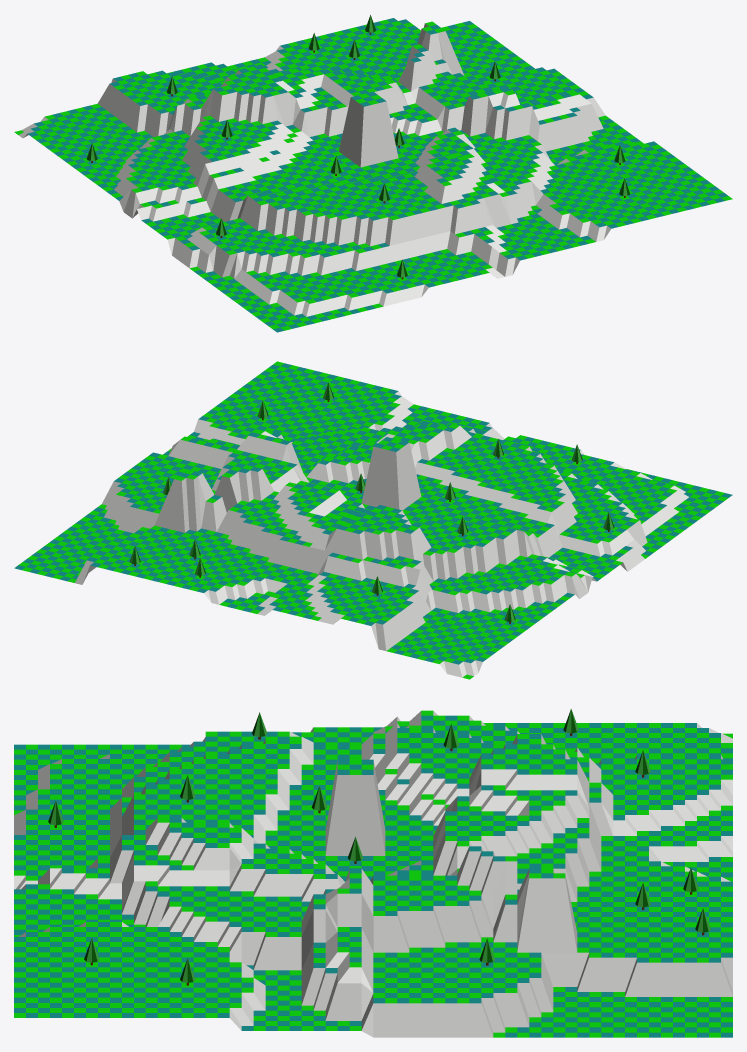
Rendered from course_watchman.glb.
3 views of the same model, one above another, from view 1: azimuth 30°, elevation 25°; view 2: azimuth 150°, elevation 25°; view 3: azimuth 270°, elevation 25° (orthographic). The views are drawn at different scales.
Visible parts, largest first — view 1: Grid-col; view 2: Grid-col; view 3: Grid-col.
Boxes of the visible parts, left/top/right/bottom form: Grid-col: left=14, top=18, right=732, bottom=332; Grid-col: left=14, top=361, right=732, bottom=679; Grid-col: left=14, top=710, right=732, bottom=1037.
Size of what is drawn, in the model's own units: 600 by 112 by 600.
